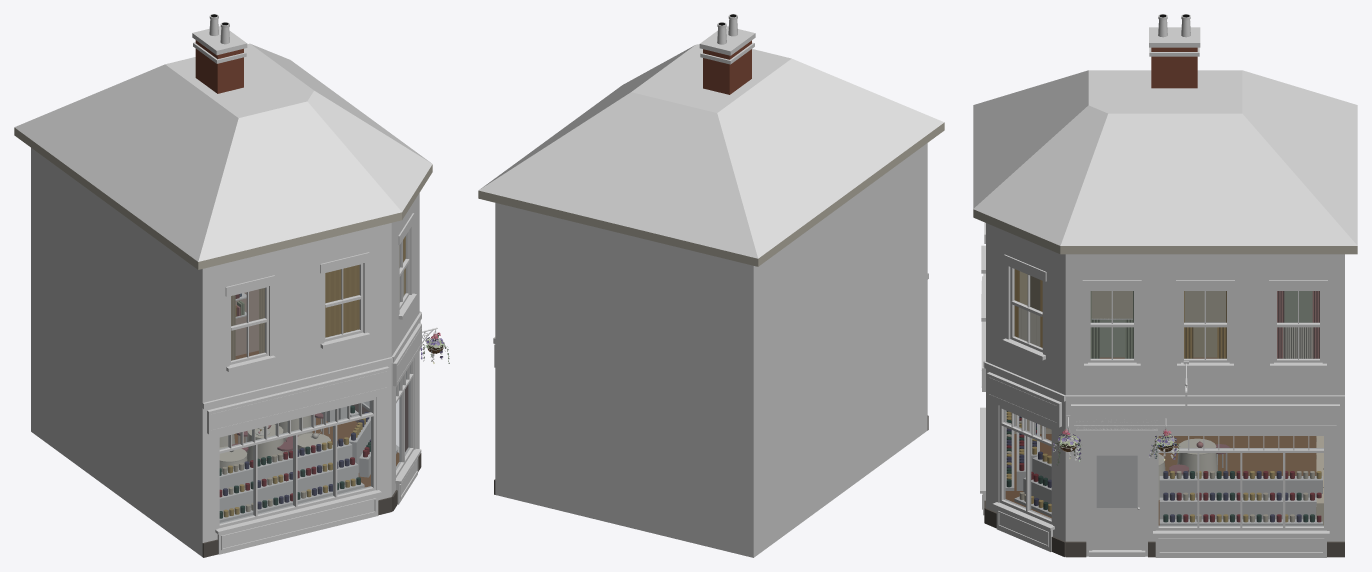
Rendered from StraightEnd_Corner.glb.
3 renders of one model, left to right at view 1: azimuth 30°, elevation 25°; view 2: azimuth 150°, elevation 25°; view 3: azimuth 270°, elevation 25°, orthographic. The views are drawn at different scales.
Visible parts, largest first — view 1: StraightEnd_Corner; view 2: StraightEnd_Corner; view 3: StraightEnd_Corner.
Boxes of the visible parts, <box> form: StraightEnd_Corner: <box>14,14,449,557</box>; StraightEnd_Corner: <box>478,14,944,557</box>; StraightEnd_Corner: <box>973,14,1357,557</box>.
Size of the model in its own units: 7.24 by 10.01 by 7.5.
